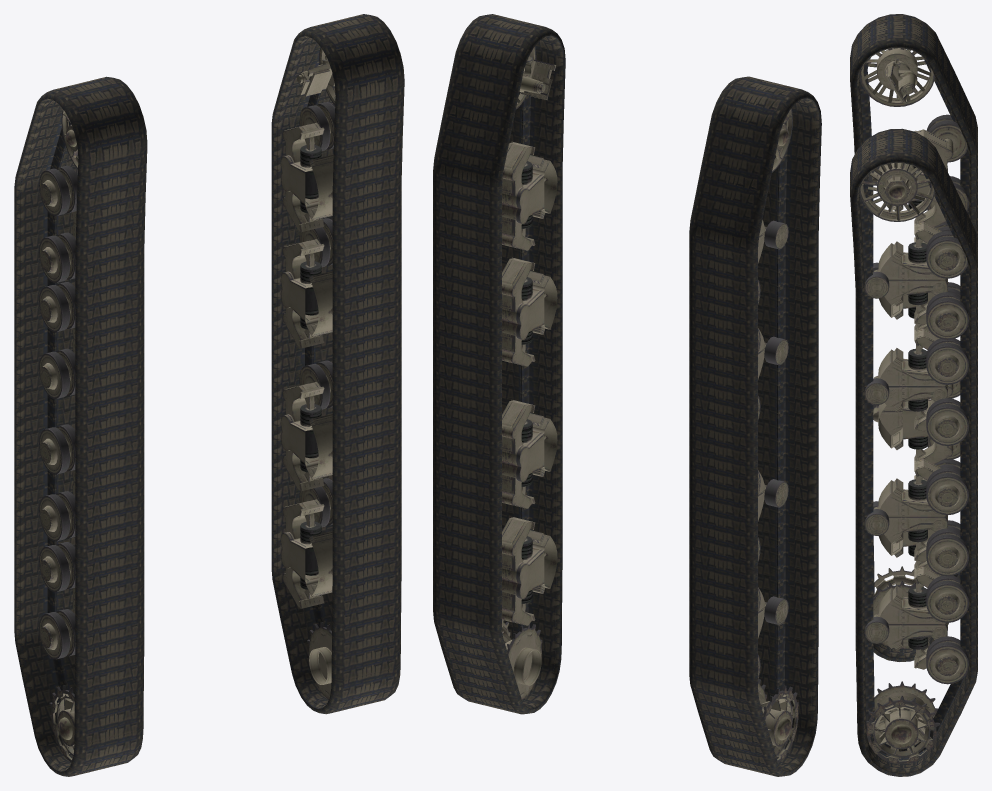
File: Chassis.glb
3 views of the same model, side by side, from view 1: azimuth 30°, elevation 25°; view 2: azimuth 150°, elevation 25°; view 3: azimuth 270°, elevation 25° (orthographic). The views are drawn at different scales.
Visible parts, largest first — view 1: set_0_group_0, set_1_group_0, set_3_group_0, set_2_group_0; view 2: set_0_group_0, set_1_group_0, set_3_group_0, set_2_group_0; view 3: set_3_group_0, set_1_group_0, set_2_group_0, set_0_group_0.
Boxes of the visible parts, left/top/right/bottom form: set_0_group_0: left=14, top=76, right=147, bottom=776; set_1_group_0: left=271, top=14, right=404, bottom=714; set_3_group_0: left=280, top=47, right=335, bottom=699; set_2_group_0: left=39, top=110, right=78, bottom=762; set_0_group_0: left=689, top=76, right=821, bottom=776; set_1_group_0: left=433, top=14, right=565, bottom=714; set_3_group_0: left=502, top=46, right=557, bottom=699; set_2_group_0: left=758, top=108, right=798, bottom=762; set_3_group_0: left=859, top=163, right=968, bottom=763; set_1_group_0: left=850, top=128, right=977, bottom=776; set_2_group_0: left=859, top=48, right=968, bottom=648; set_0_group_0: left=850, top=14, right=977, bottom=661.
Bounding box in the file's own units: 3.84 × 7.68 × 1.43.
Materials: 4 (4 with a texture image).
